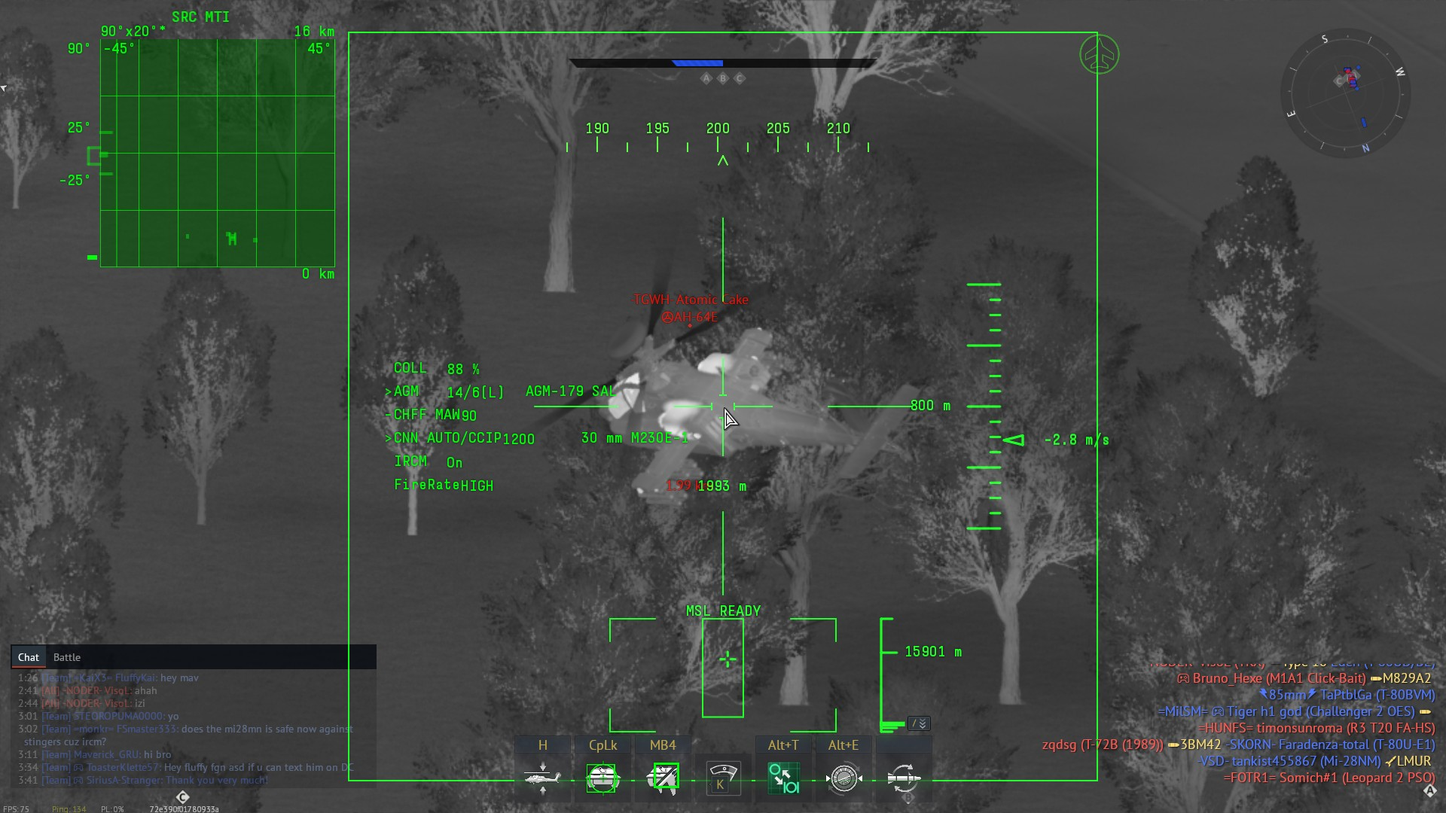ah64: (500, 284, 924, 508)
